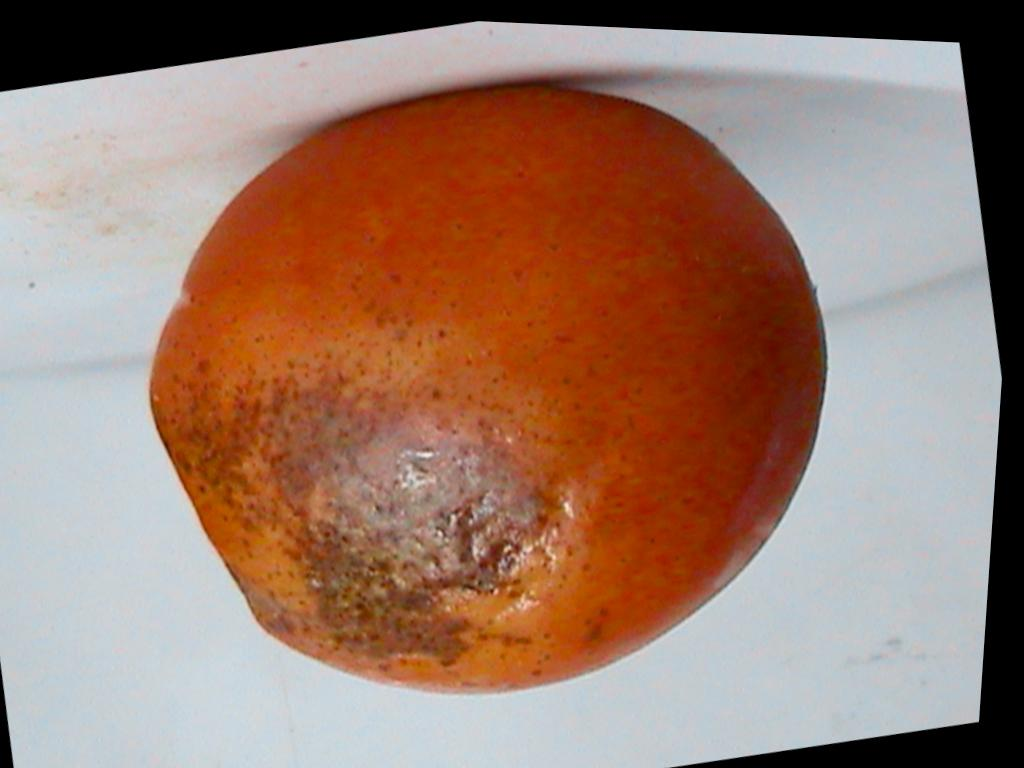rot_mold_decay: (153, 375, 561, 686)
tomato: (151, 88, 826, 691)
